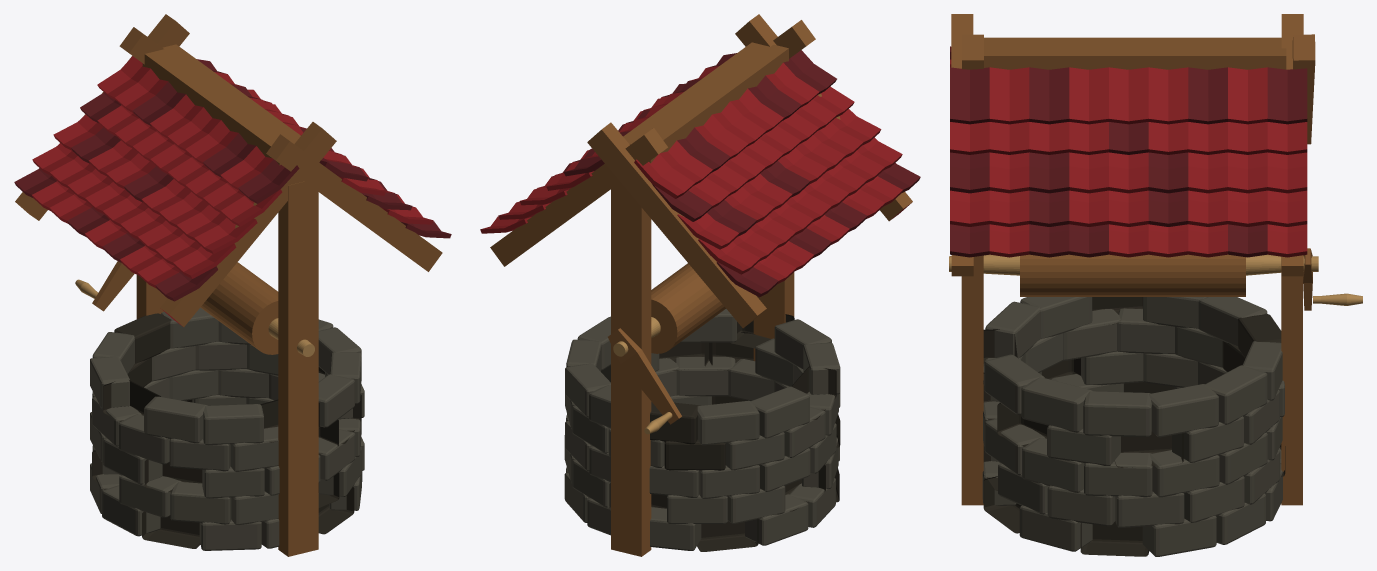
Rendered from pit.fbx.
The picture shows the model from 3 angles, left to right: view 1: azimuth 30°, elevation 25°; view 2: azimuth 150°, elevation 25°; view 3: azimuth 270°, elevation 25°; orthographic projection. The views are drawn at different scales.
Parts seen in each view (by area): view 1: Cube; view 2: Cube; view 3: Cube.
Part boxes in pixels (x1,y1,x2,y2): Cube: (14, 14, 451, 556); Cube: (480, 14, 920, 556); Cube: (949, 14, 1362, 556).
Bounding box in the file's own units: 1828 × 2629 × 2084.
